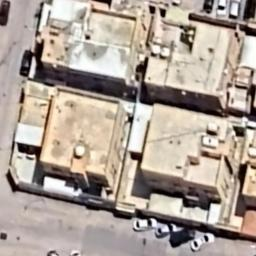sedan: (168, 227, 196, 249), (154, 221, 184, 239), (190, 232, 216, 252), (133, 217, 157, 232), (0, 0, 10, 26)
van: (216, 0, 227, 17), (230, 0, 240, 18), (203, 0, 214, 13)
